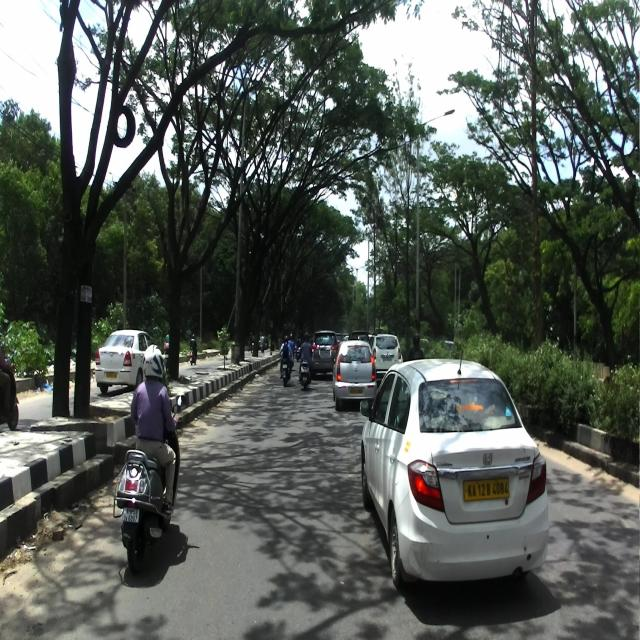Car_Honda: (358, 347, 548, 590)
Car_Toyota: (95, 328, 156, 394)
scooter: (112, 393, 187, 575)
